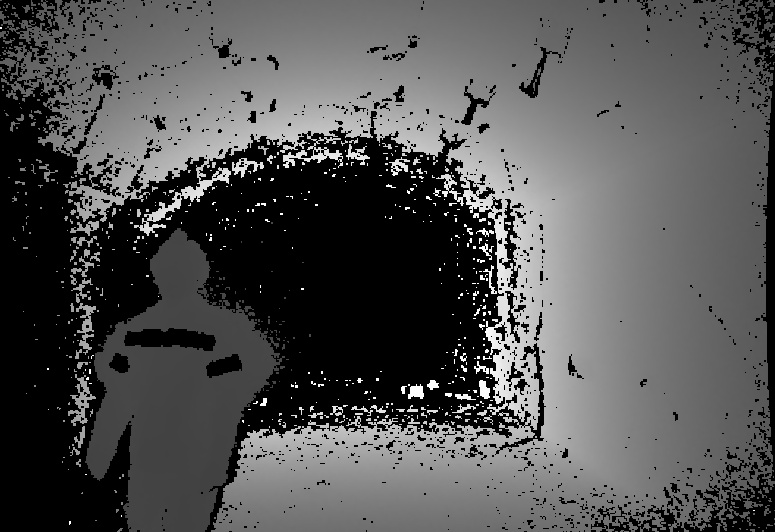person: (86, 228, 276, 532)
